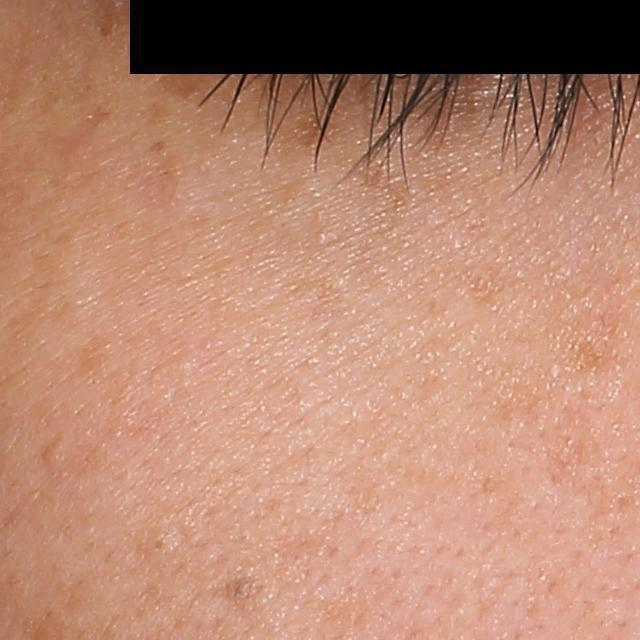comedo: (143, 524, 175, 557), (38, 441, 67, 466)
melasma: (89, 1, 239, 102), (458, 257, 513, 309), (289, 106, 341, 149), (145, 138, 168, 157)
